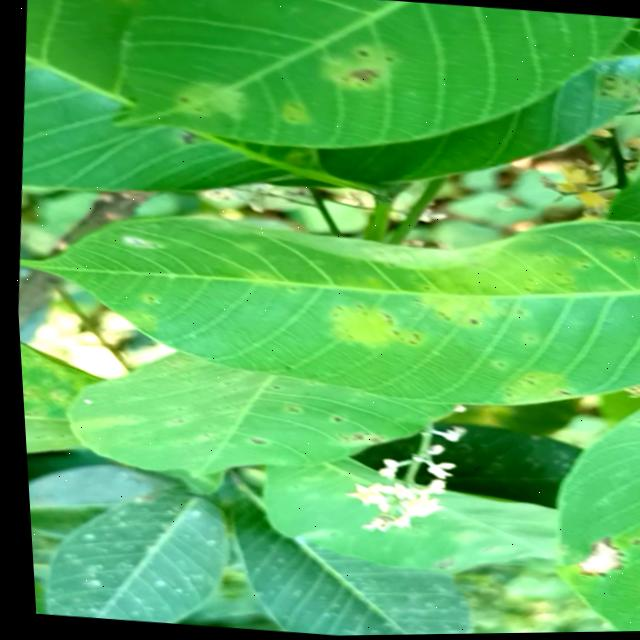Leaf-Blight: (568, 538, 617, 578)
